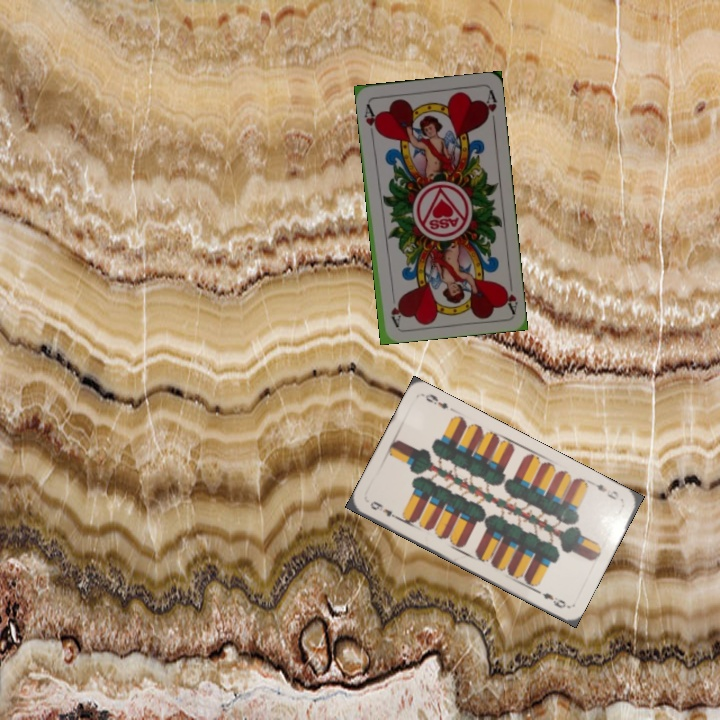E9: (366, 497, 402, 522), (587, 478, 621, 503)
HA: (499, 274, 521, 315), (360, 100, 382, 140)
